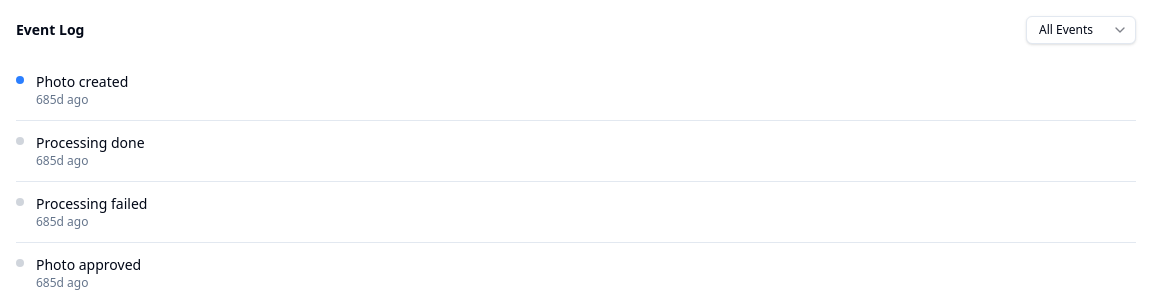
EventLogPanel › filtering › should filter to activity only
Step 1. Select "Activity" in the dropdown → x=1081, y=30, box [1026, 16, 1136, 44]
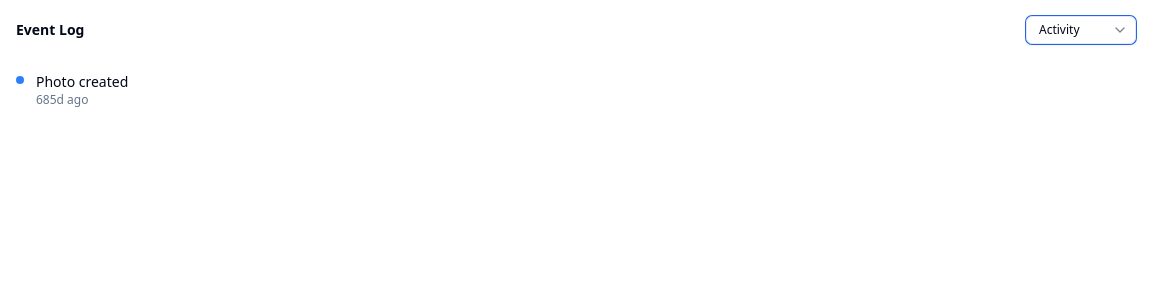
Expected: the text "Photo created" is shown, [36, 72, 128, 91]
Expected: the text "Processing done" is gone
